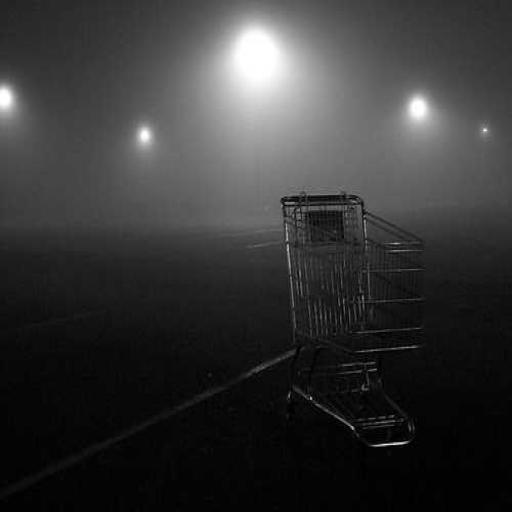shopping_cart: (280, 194, 427, 454)
